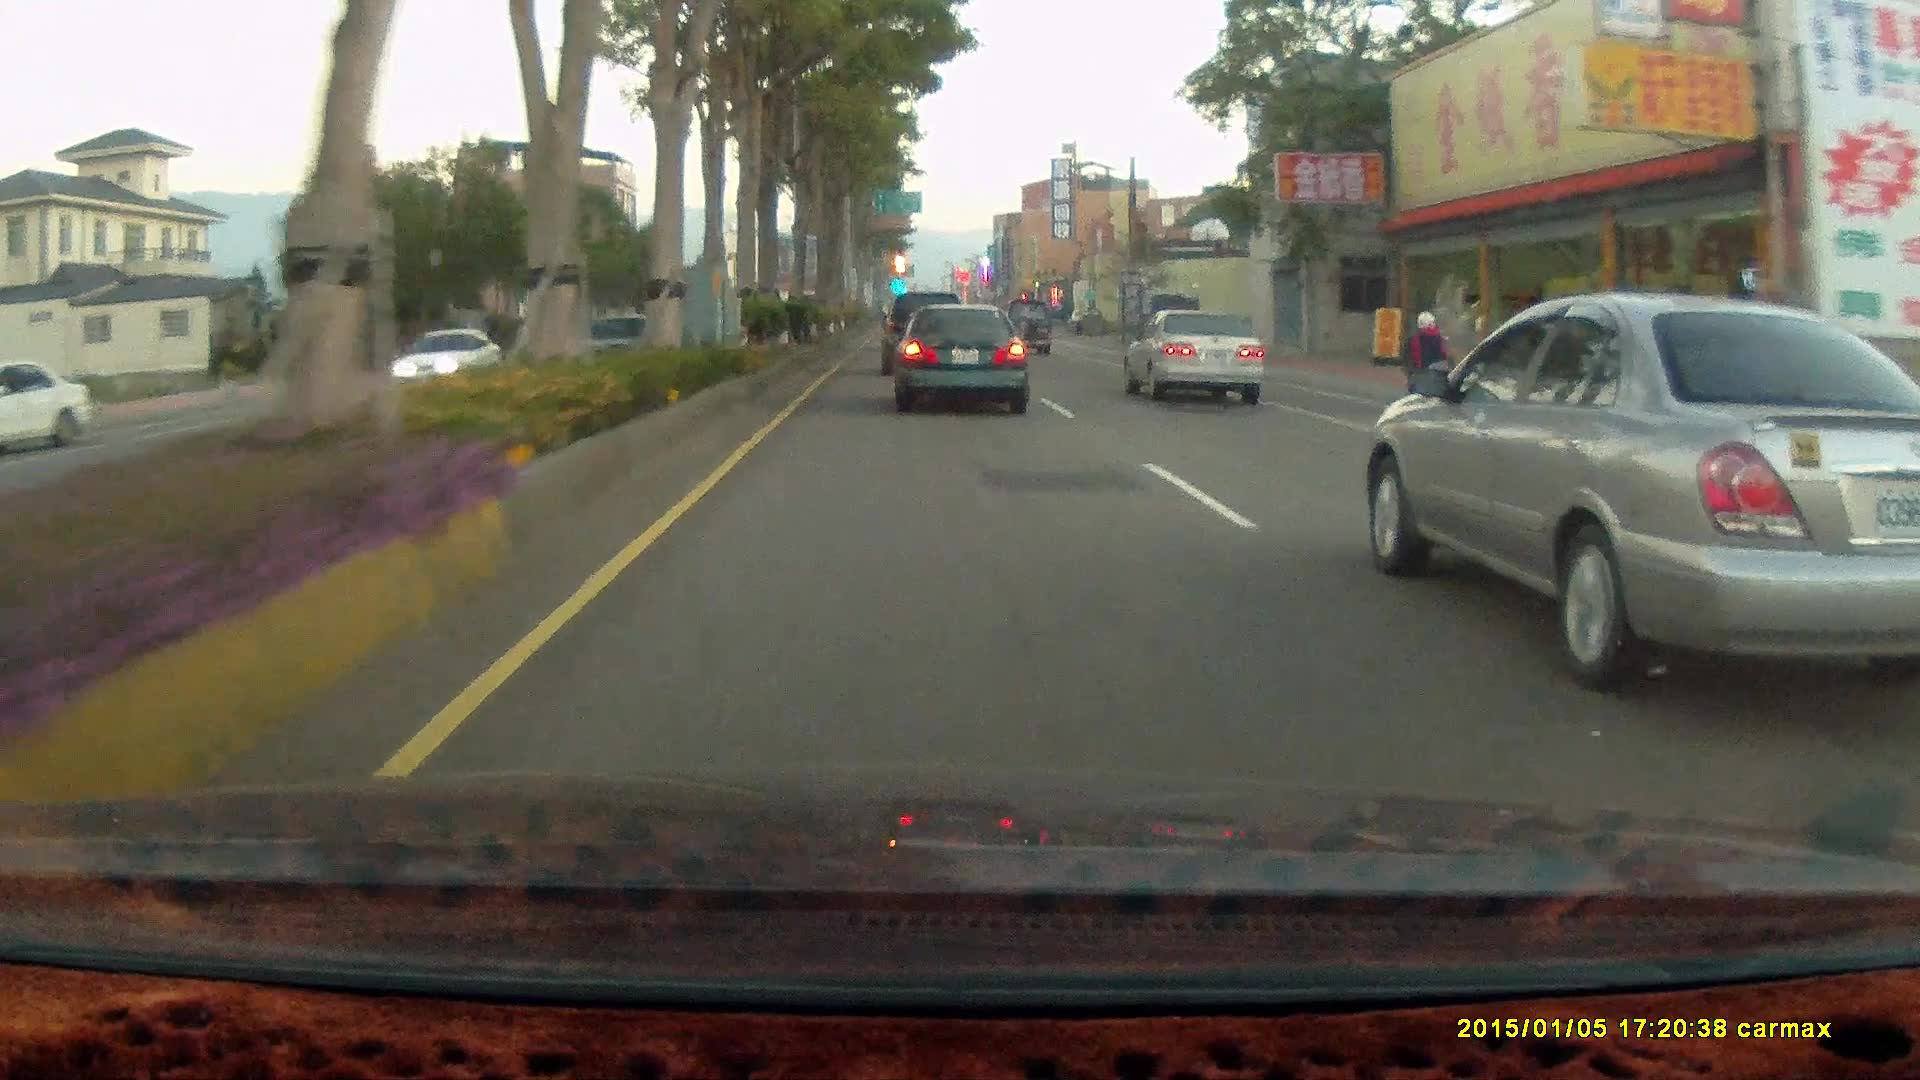rider: (1383, 302, 1471, 441), (1397, 308, 1457, 417)
vehicle: (1356, 289, 1920, 663), (891, 298, 1035, 417), (1120, 307, 1272, 410), (888, 300, 1028, 412), (1120, 307, 1263, 406), (1, 361, 98, 455), (1, 360, 95, 454), (388, 323, 506, 388), (883, 288, 970, 374), (388, 320, 507, 380), (882, 291, 965, 375), (1140, 291, 1202, 350), (1003, 297, 1052, 357)
